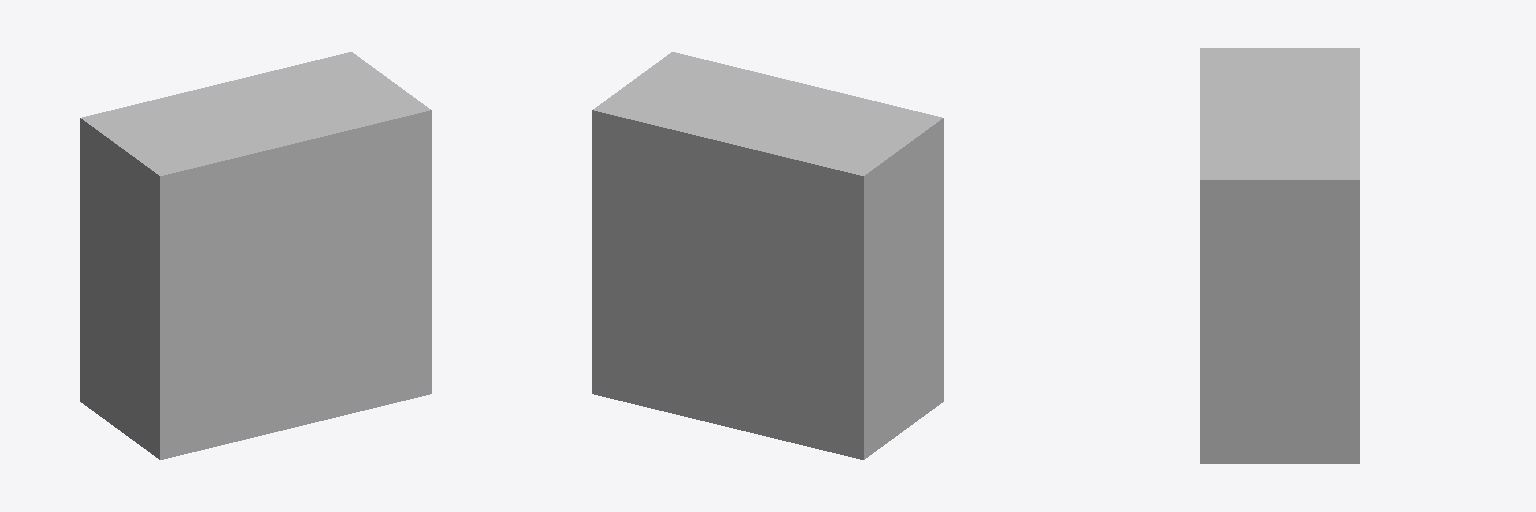
The model's file is kubo.obj.
The picture shows the model from 3 angles: view 1: azimuth 30°, elevation 25°; view 2: azimuth 150°, elevation 25°; view 3: azimuth 270°, elevation 25°; orthographic projection.
Parts seen in each view (by area): view 1: object 1; view 2: object 1; view 3: object 1.
Part boxes in pixels (left/top/right/bottom): object 1: left=80, top=52, right=431, bottom=459; object 1: left=592, top=52, right=943, bottom=459; object 1: left=1200, top=48, right=1359, bottom=463.
Size of the model in its own units: 6.76 by 6.76 by 3.45.